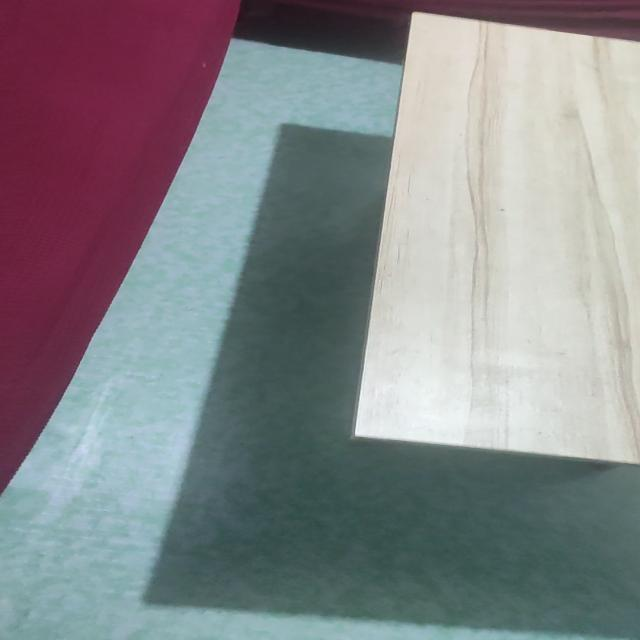table: (348, 2, 640, 477)
